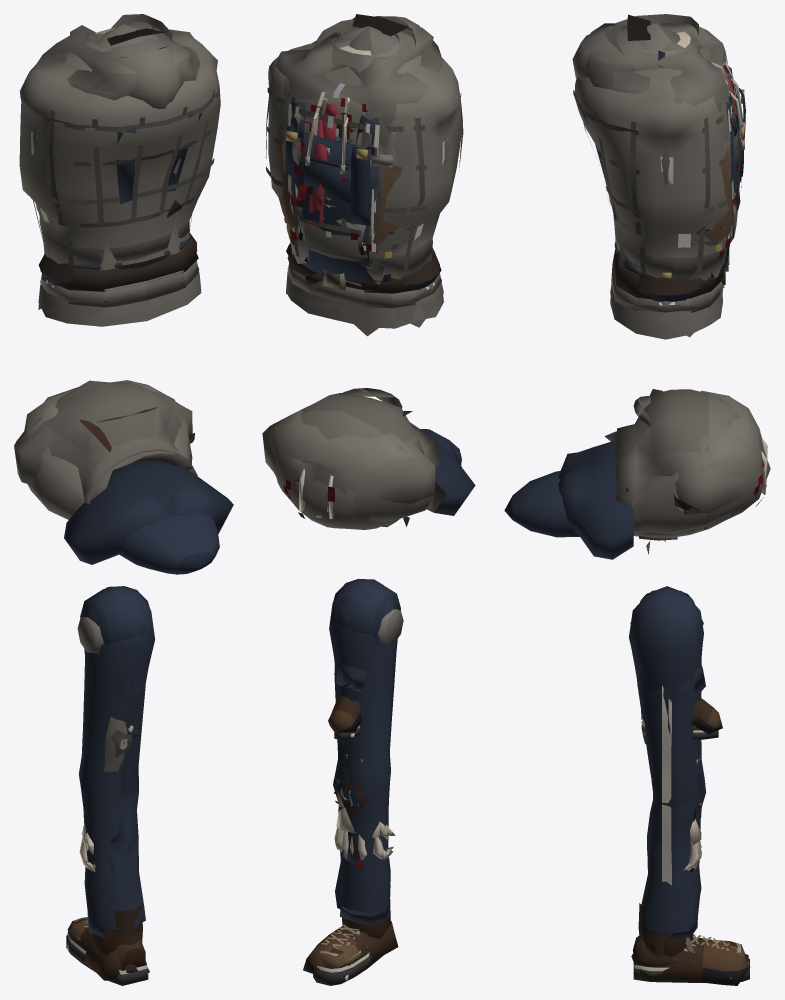
The model's file is bodies.glb.
3 views of the same model, side by side, from view 1: azimuth 30°, elevation 25°; view 2: azimuth 150°, elevation 25°; view 3: azimuth 270°, elevation 25° (orthographic). The views are drawn at different scales.
Visible parts, largest first — view 1: FrissonTorso_B_BruteFlannel_Cloth, FrissonCrawler_B_Hoodie_Cloth, FrissonCrawler_B_Shirt_Pants, FrissonTorso_A_Hoodie_Cloth, FrissonLeg_A_Boot_Pants, FrissonTorso_B_Hoodie_Cloth, FrissonCrawler_A_Hoodie_Pants, FrissonLeg_B_Boot2_Pants, FrissonCrawler_A_Hoodie_Cloth, FrissonLeg_B_Boot_Pants, FrissonLeg_B_Sneaker_Pants, FrissonLeg_A_Boot_Detail (+12 smaller); view 2: FrissonTorso_B_BruteFlannel_Cloth, FrissonCrawler_B_Hoodie_Cloth, FrissonTorso_B_Hoodie_Cloth, FrissonCrawler_A_Hoodie_Cloth, FrissonTorso_A_Overalls_Pants, FrissonLeg_B_Sneaker_Pants, FrissonLeg_B_Boot2_Pants, FrissonTorso_A_Hoodie_Cloth, FrissonLeg_A_Boot_Pants, FrissonTorso_B_Flannel_Cloth, FrissonLeg_B_Boot_Detail, FrissonCrawler_A_Torn_Cloth (+21 smaller); view 3: FrissonTorso_B_BruteFlannel_Cloth, FrissonCrawler_B_Hoodie_Cloth, FrissonLeg_A_Boot_Pants, FrissonCrawler_A_Hoodie_Cloth, FrissonTorso_B_Hoodie_Cloth, FrissonCrawler_B_Shirt_Pants, FrissonTorso_A_Hoodie_Cloth, FrissonLeg_B_Boot_Detail, FrissonCrawler_A_Hoodie_Pants, FrissonLeg_B_Boot_Pants, FrissonLeg_A_Boot_Detail, FrissonLeg_B_Sneaker_Pants (+13 smaller).
Part boxes in pixels (<box>): FrissonTorso_B_BruteFlannel_Cloth: <box>19,24,220,264</box>; FrissonCrawler_B_Hoodie_Cloth: <box>14,380,197,504</box>; FrissonCrawler_B_Shirt_Pants: <box>64,460,233,564</box>; FrissonTorso_A_Hoodie_Cloth: <box>33,33,199,307</box>; FrissonLeg_A_Boot_Pants: <box>80,588,145,929</box>; FrissonTorso_B_Hoodie_Cloth: <box>32,22,200,100</box>; FrissonCrawler_A_Hoodie_Pants: <box>117,512,219,574</box>; FrissonLeg_B_Boot2_Pants: <box>83,586,155,923</box>; FrissonCrawler_A_Hoodie_Cloth: <box>24,380,192,519</box>; FrissonLeg_B_Boot_Pants: <box>78,592,149,918</box>; FrissonLeg_B_Sneaker_Pants: <box>80,586,148,937</box>; FrissonLeg_A_Boot_Detail: <box>66,905,148,985</box>; FrissonTorso_B_BruteFlannel_Cloth: <box>265,26,463,279</box>; FrissonCrawler_B_Hoodie_Cloth: <box>262,393,440,529</box>; FrissonTorso_B_Hoodie_Cloth: <box>275,17,442,284</box>; FrissonCrawler_A_Hoodie_Cloth: <box>272,388,434,525</box>; FrissonTorso_A_Overalls_Pants: <box>286,32,390,281</box>; FrissonLeg_B_Sneaker_Pants: <box>329,591,390,925</box>; FrissonLeg_B_Boot2_Pants: <box>333,578,397,915</box>; FrissonTorso_A_Hoodie_Cloth: <box>277,16,447,308</box>; FrissonLeg_A_Boot_Pants: <box>333,581,400,913</box>; FrissonTorso_B_Flannel_Cloth: <box>276,97,429,278</box>; FrissonLeg_B_Boot_Detail: <box>303,851,398,982</box>; FrissonCrawler_A_Torn_Cloth: <box>277,425,369,520</box>; FrissonTorso_B_BruteFlannel_Cloth: <box>573,23,737,280</box>; FrissonCrawler_B_Hoodie_Cloth: <box>617,389,770,540</box>; FrissonLeg_A_Boot_Pants: <box>630,586,704,933</box>; FrissonCrawler_A_Hoodie_Cloth: <box>631,390,760,533</box>; FrissonTorso_B_Hoodie_Cloth: <box>585,23,736,236</box>; FrissonCrawler_B_Shirt_Pants: <box>558,441,633,559</box>; FrissonTorso_A_Hoodie_Cloth: <box>572,25,736,312</box>; FrissonLeg_B_Boot_Detail: <box>631,933,750,985</box>; FrissonCrawler_A_Hoodie_Pants: <box>504,471,579,537</box>; FrissonLeg_B_Boot_Pants: <box>629,589,702,896</box>; FrissonLeg_A_Boot_Detail: <box>633,903,749,982</box>; FrissonLeg_B_Sneaker_Pants: <box>631,592,705,939</box>.
Bounding box in the file's own units: 0.5209 × 2.51 × 0.6366.
